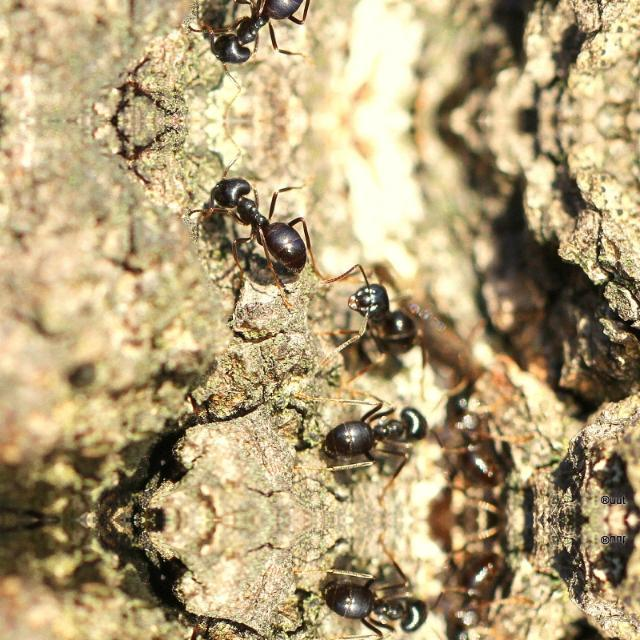Lasius: (195, 166, 327, 284), (195, 0, 327, 74), (350, 264, 430, 352)
